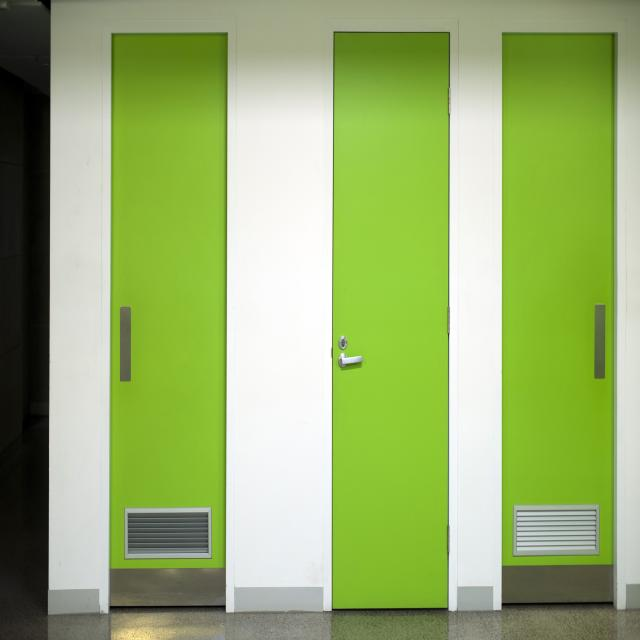door-handle: (339, 353, 362, 368)
